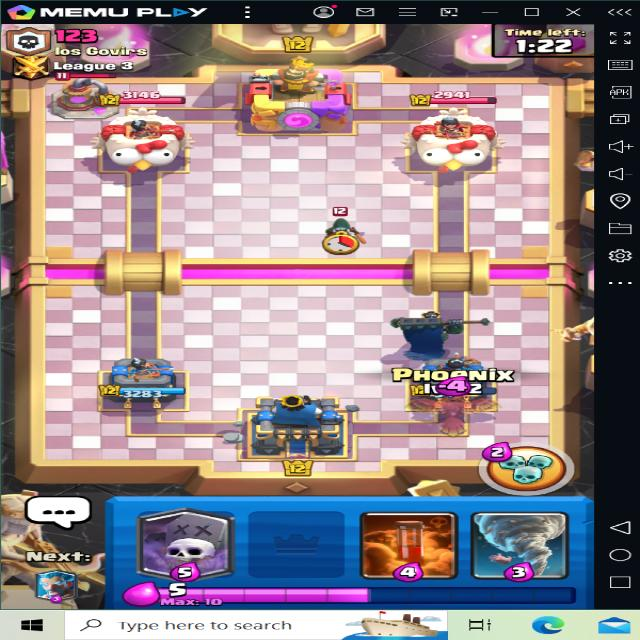bandit: (295, 205, 381, 255)
elixir-collector: (46, 74, 125, 120)
